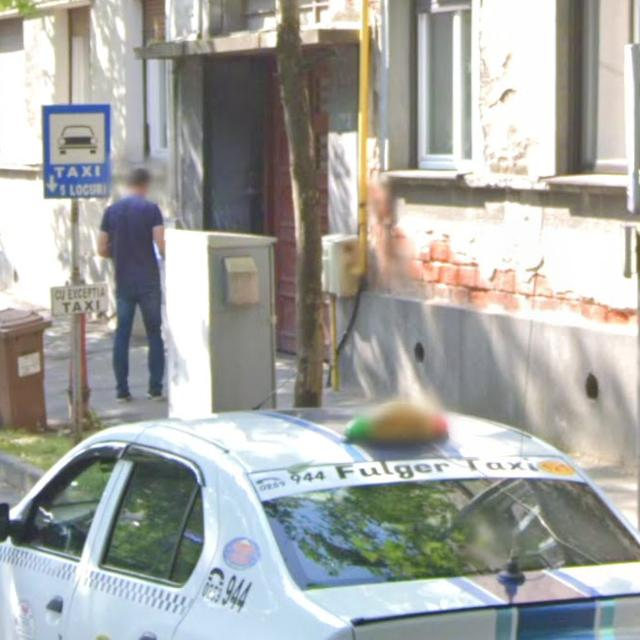info_taxi_parking: (40, 103, 112, 199)
